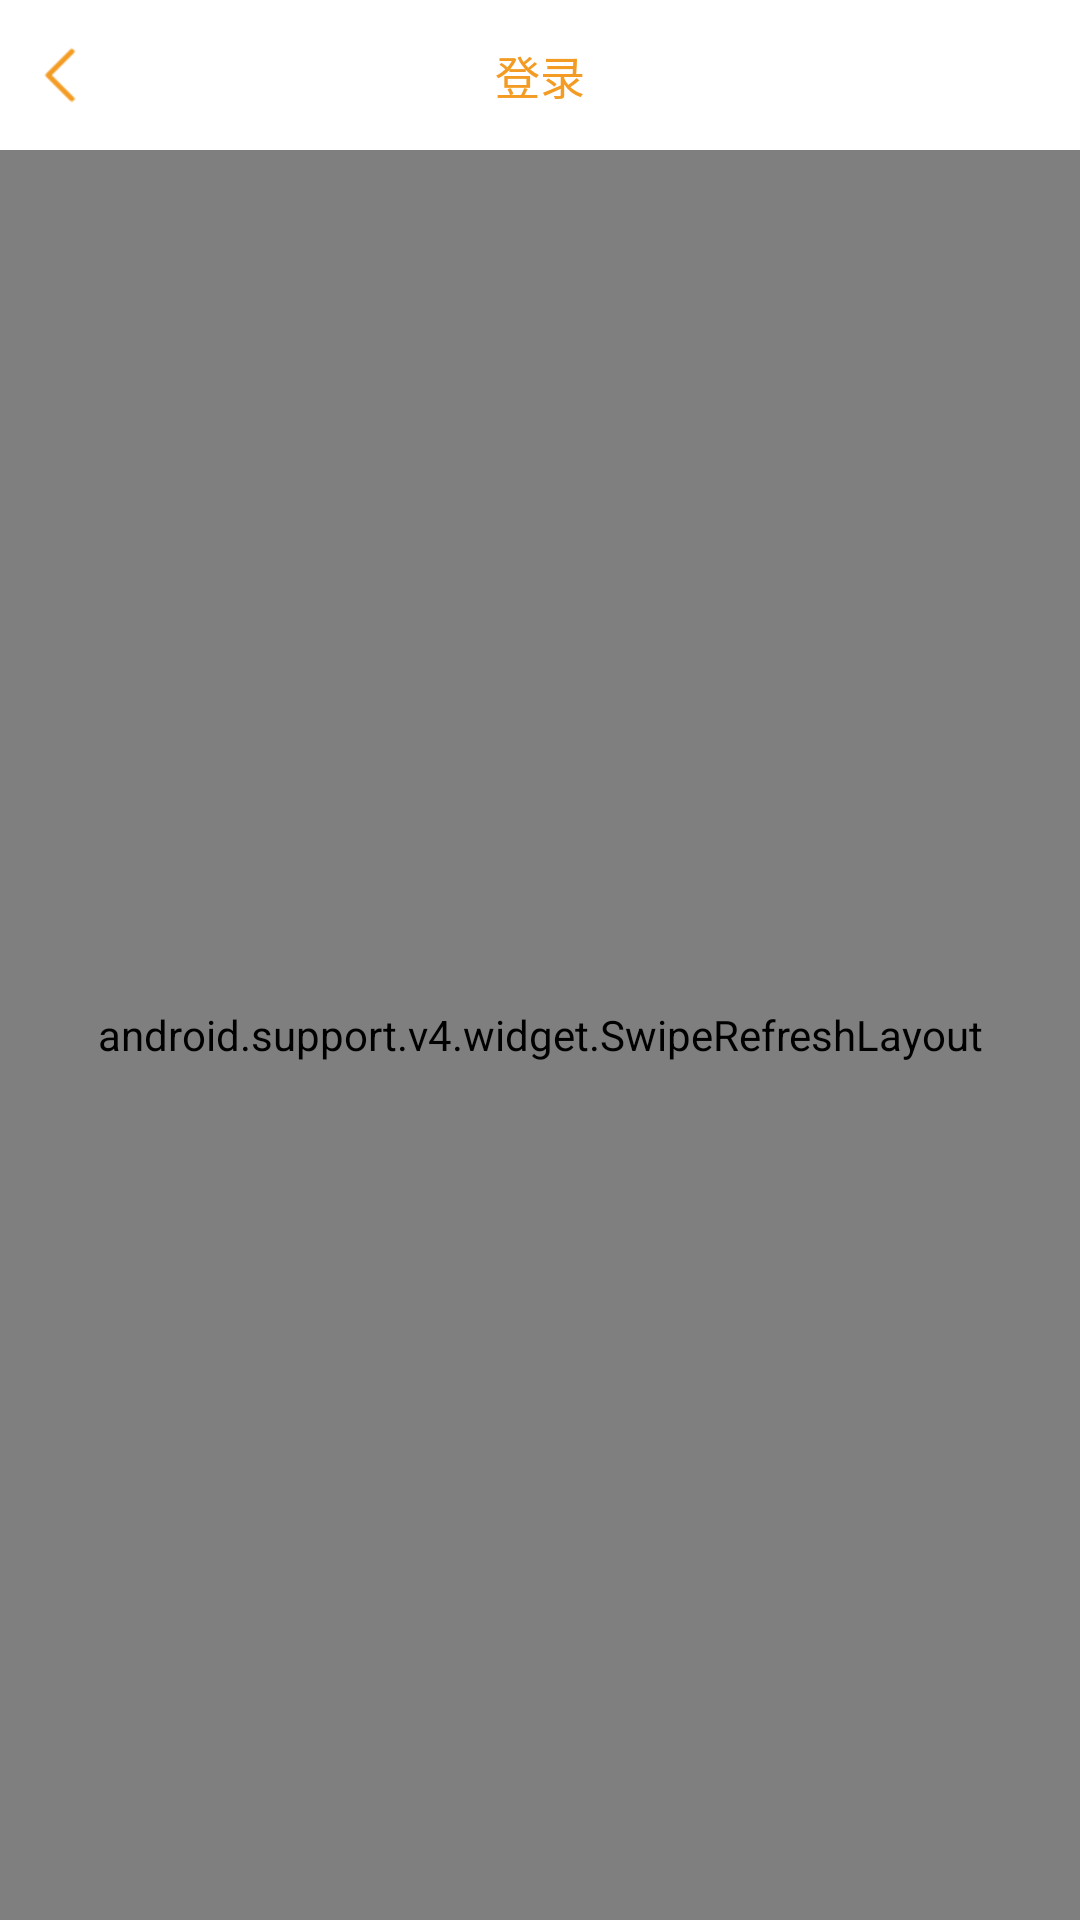

Icons on this 1080w x 1920h Android screen, each with its box as BBox(x1, y1, x2, y2):
back: BBox(45, 48, 75, 102)
